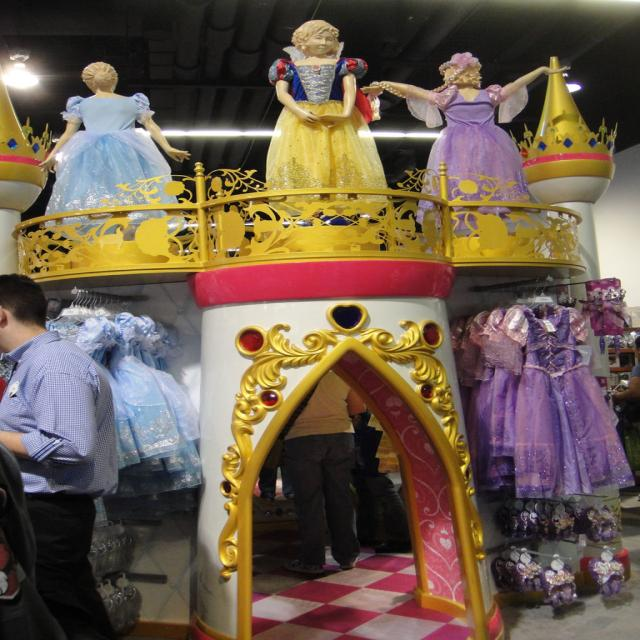Toy: (359, 58, 572, 232), (37, 61, 193, 242), (260, 18, 392, 216)
